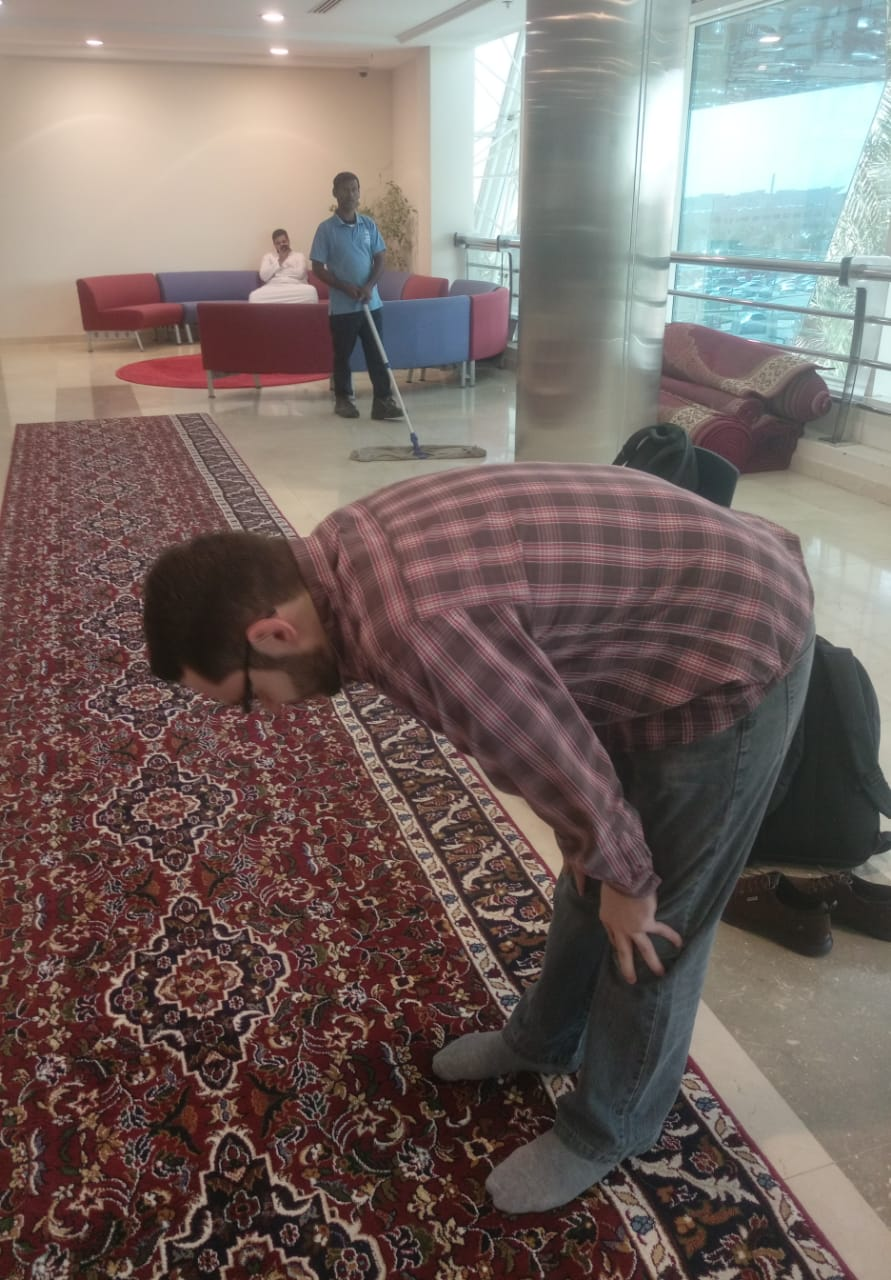ruku: (99, 426, 884, 1194)
